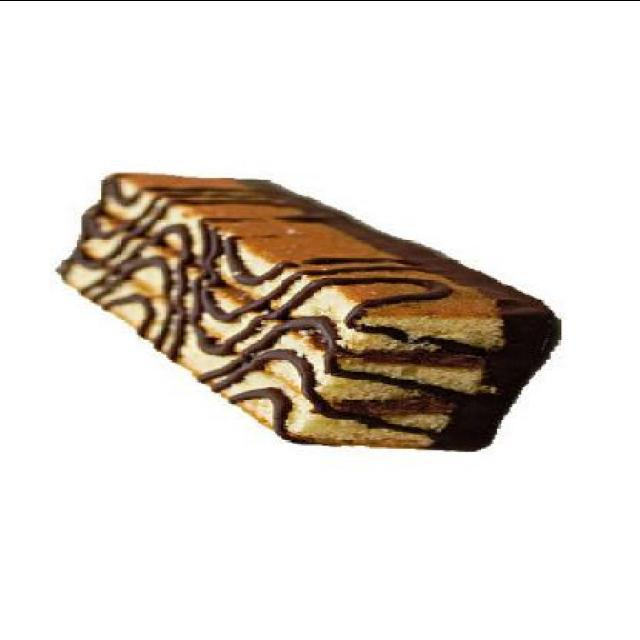Merendine packaged: (50, 166, 568, 450)
